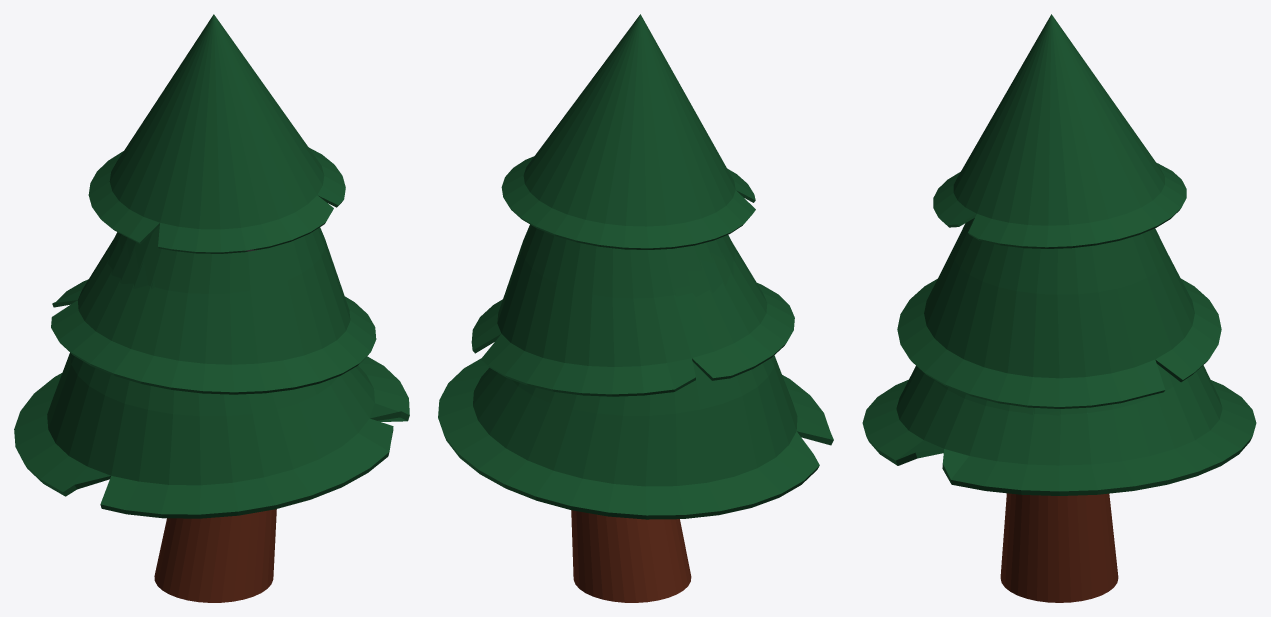
The model's file is Tree01.glb.
The picture shows the model from 3 angles, left to right: view 1: azimuth 30°, elevation 25°; view 2: azimuth 150°, elevation 25°; view 3: azimuth 270°, elevation 25°; orthographic projection.
Parts seen in each view (by area): view 1: Circle.002; view 2: Circle.002; view 3: Circle.002.
Boxes of the visible parts, <box> form: Circle.002: <box>14,14,409,602</box>; Circle.002: <box>438,14,833,602</box>; Circle.002: <box>862,14,1256,602</box>.
Bounding box in the file's own units: 3.74 × 5.91 × 3.76.
Materials: 4 (4 with a texture image).
